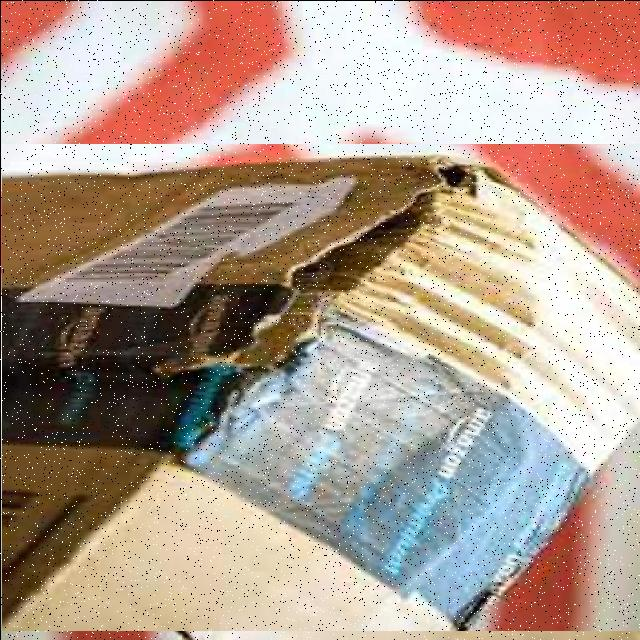defect: (1, 143, 640, 630)
